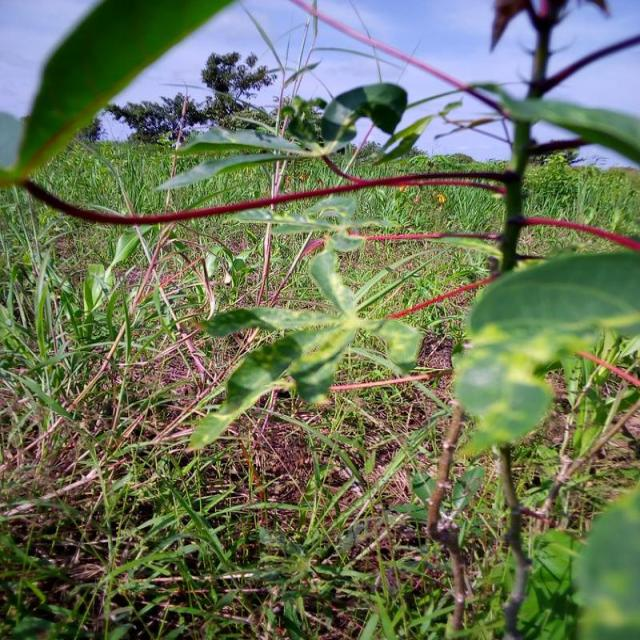cassava leaf: (186, 249, 424, 452), (1, 0, 237, 188), (451, 248, 638, 457), (319, 81, 407, 153)
